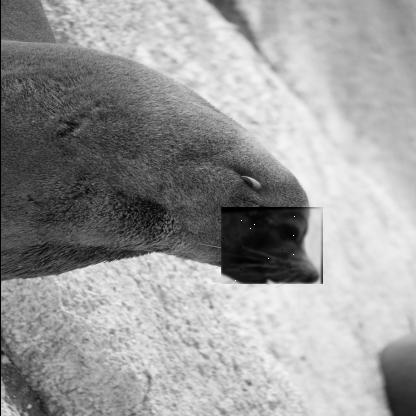face: (219, 207, 322, 285)
